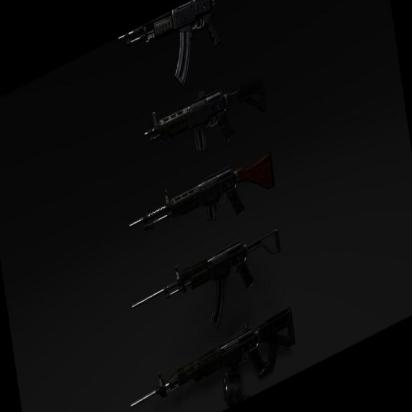Gun: (132, 213, 290, 361), (125, 134, 284, 266), (139, 50, 270, 187)
